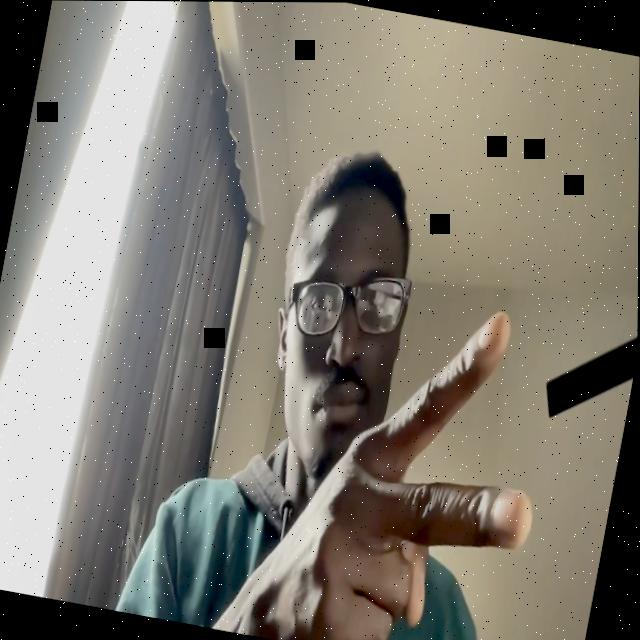Scissors: (230, 270, 569, 640)
